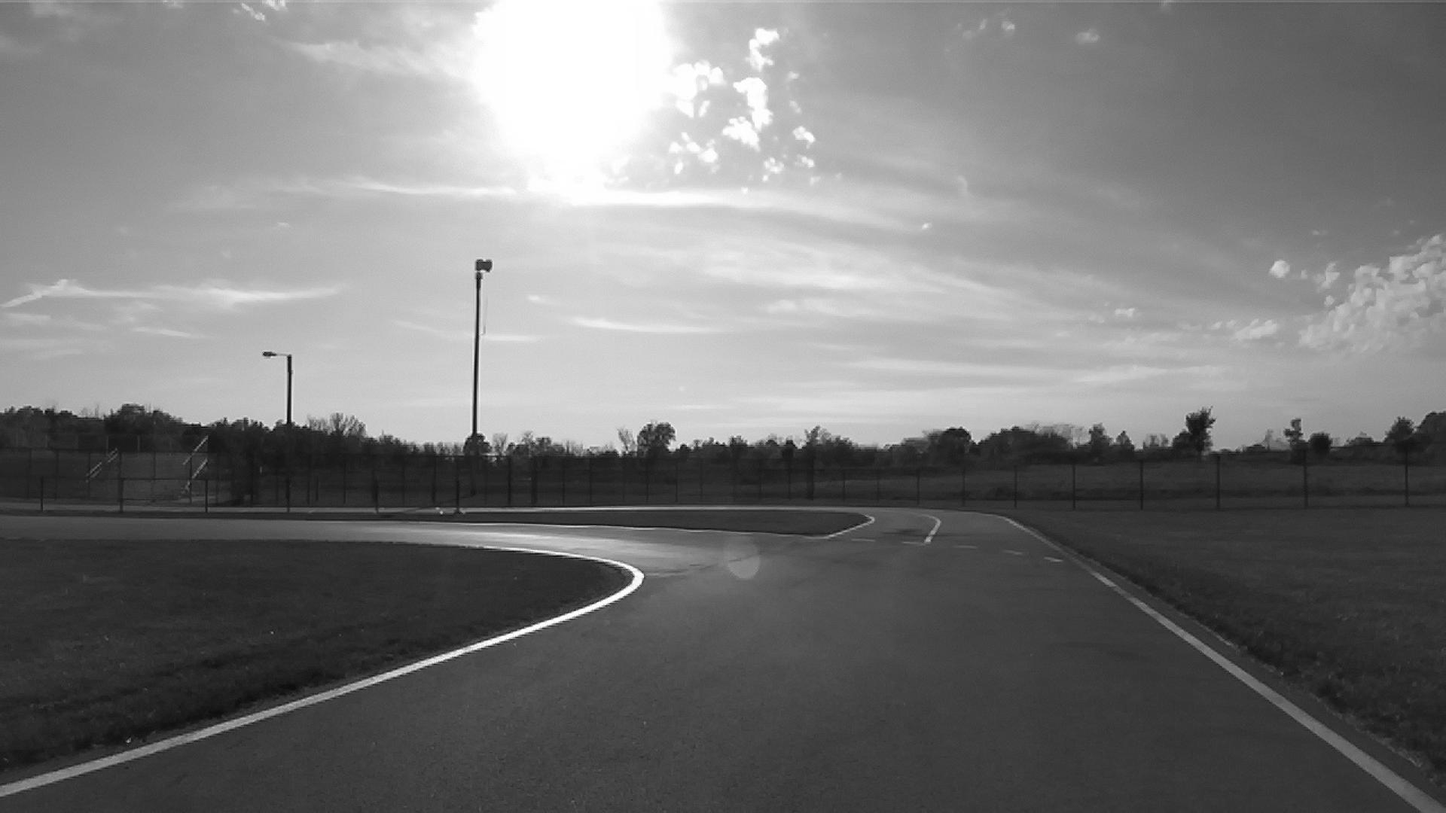white-line: (0, 545, 644, 797), (1074, 559, 1445, 812), (813, 515, 874, 539), (904, 516, 941, 543), (1043, 556, 1063, 561), (1003, 549, 1022, 554), (851, 537, 874, 541), (956, 544, 976, 548)
